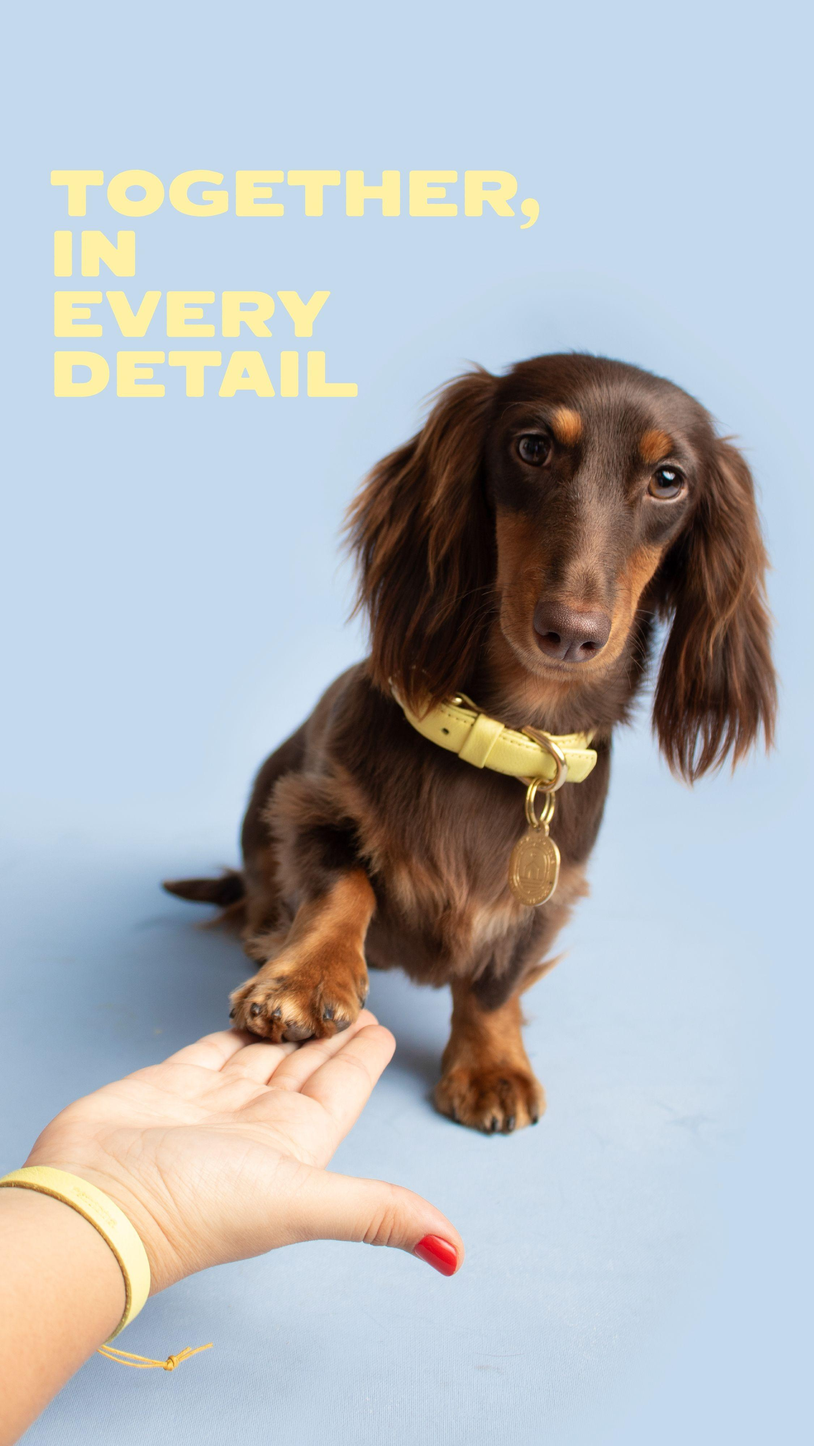adult_dog: (162, 352, 781, 1139)
non-dog: (0, 1008, 467, 1446)
